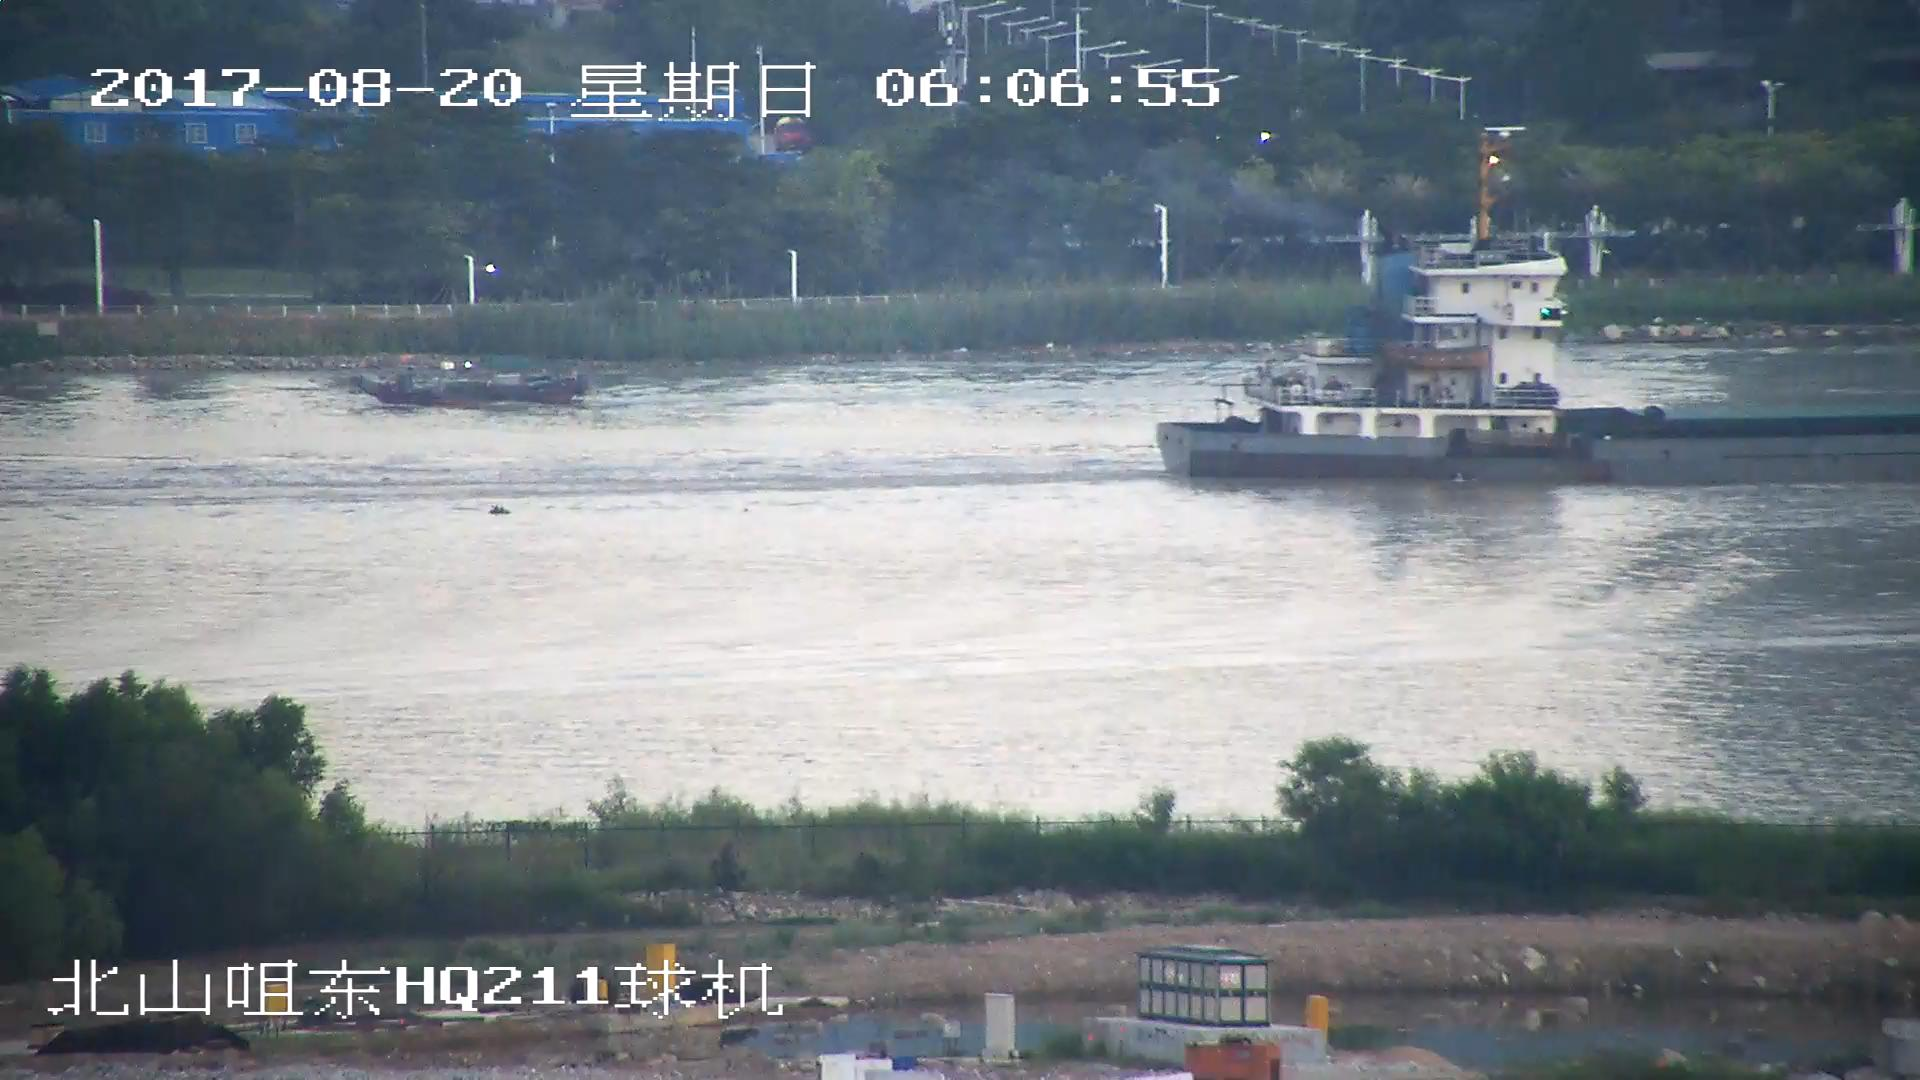fishing boat: (359, 364, 585, 408)
general cargo ship: (1159, 216, 1920, 484)
